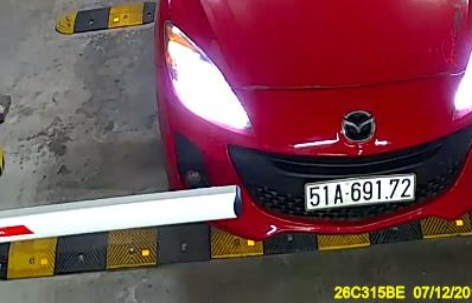plate: (300, 175, 416, 219)
